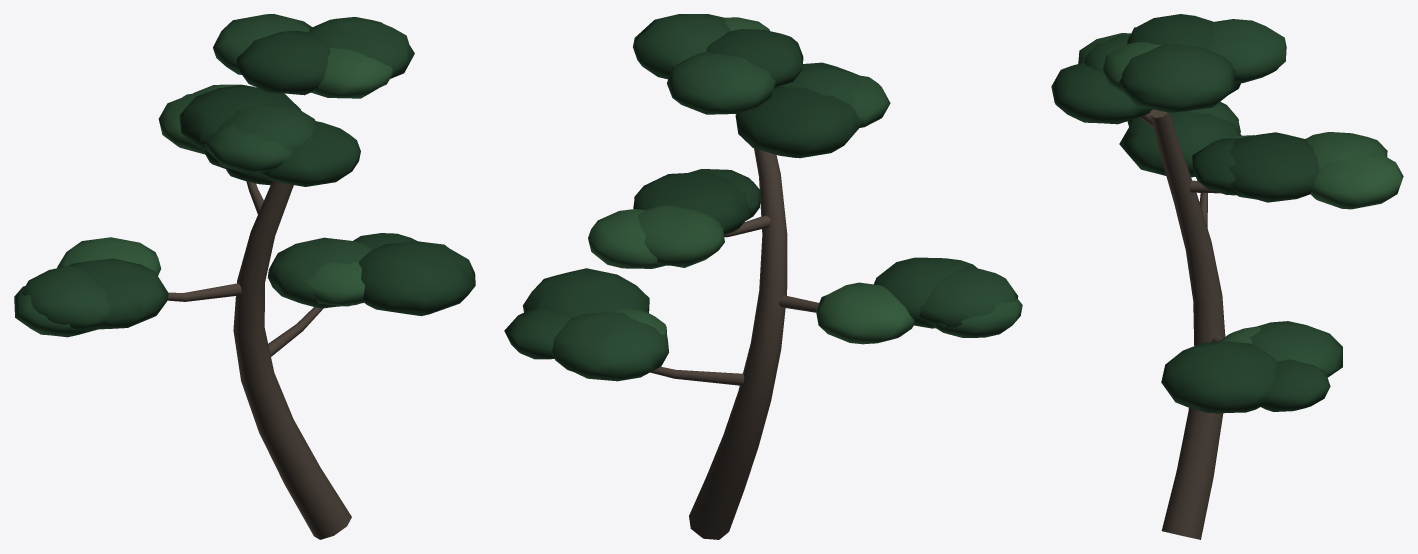
File: tree_pine_b.glb
The picture shows the model from 3 angles, left to right: view 1: azimuth 30°, elevation 25°; view 2: azimuth 150°, elevation 25°; view 3: azimuth 270°, elevation 25°; orthographic projection.
Visible parts, largest first — view 1: crown, trunk; view 2: crown, trunk; view 3: crown, trunk.
Part boxes in pixels (x1,y1,x2,y2): crown: (14, 14, 475, 337); trunk: (167, 181, 351, 539); crown: (504, 14, 1022, 381); trunk: (650, 148, 818, 539); crown: (1051, 14, 1403, 413); trunk: (1139, 109, 1225, 539).
Bounding box in the file's own units: 5.48 × 5.66 × 3.62.
